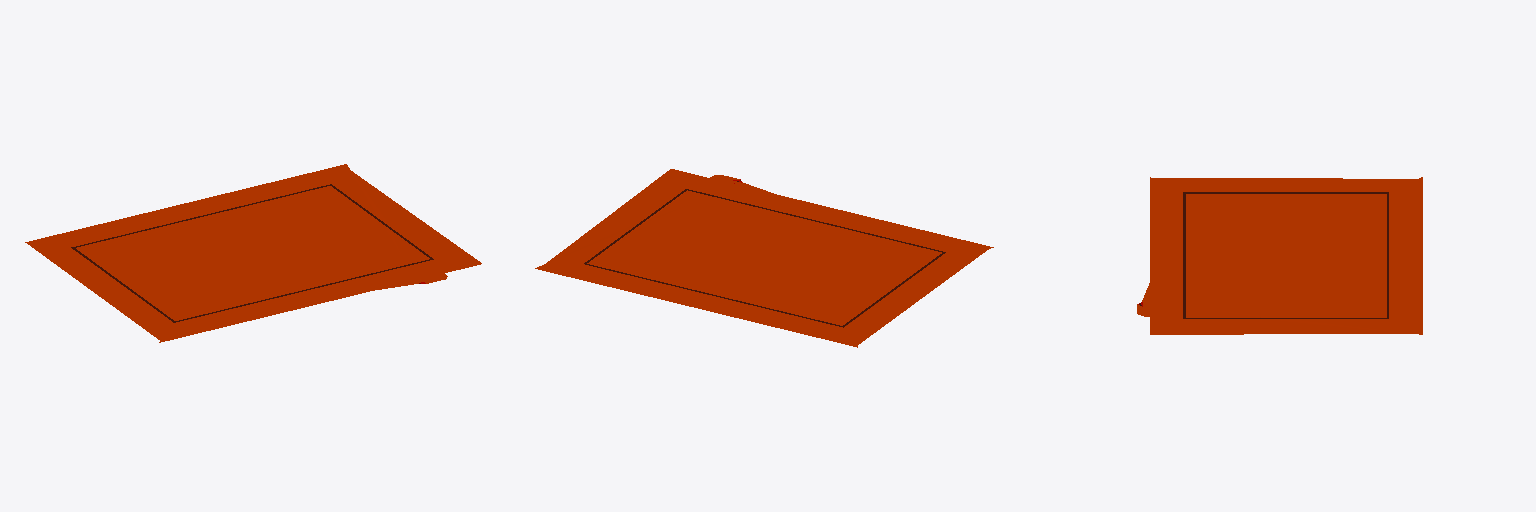
Rendered from rug.obj.
3 views of the same model, side by side, from view 1: azimuth 30°, elevation 25°; view 2: azimuth 150°, elevation 25°; view 3: azimuth 270°, elevation 25° (orthographic).
Parts seen in each view (by area): view 1: Box212; view 2: Box212; view 3: Box212.
Boxes of the visible parts, box(x1,y1,x2,y2) form: Box212: box(25, 164, 481, 342); Box212: box(535, 169, 993, 347); Box212: box(1137, 177, 1422, 334).
Size of the model in its own units: 419296 by 340 by 320625.